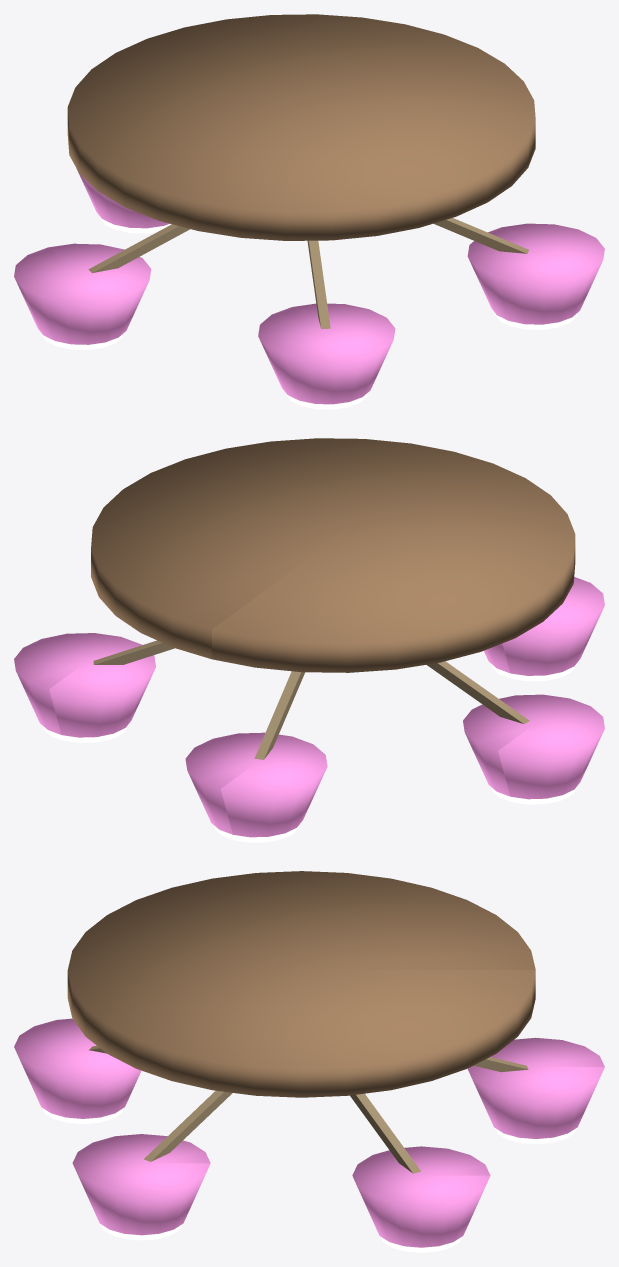
The model's file is yokocho-medallion-chandelier.glb.
The picture shows the model from 3 angles, top to bottom: view 1: azimuth 30°, elevation 25°; view 2: azimuth 150°, elevation 25°; view 3: azimuth 270°, elevation 25°; orthographic projection. The views are drawn at different scales.
Visible parts, largest first — view 1: Shops/S04/Personality/MedallionCeiling__Night_Walnut, Shops/S04/Personality/MedallionCeiling__VenueLight_S04_PlumS, Shops/S04/Personality/MedallionCeiling__Bronze, Shops/S04/Personality/MedallionCeiling__VenueLight_S04_Pearl; view 2: Shops/S04/Personality/MedallionCeiling__Night_Walnut, Shops/S04/Personality/MedallionCeiling__VenueLight_S04_PlumS, Shops/S04/Personality/MedallionCeiling__Bronze, Shops/S04/Personality/MedallionCeiling__VenueLight_S04_Pearl; view 3: Shops/S04/Personality/MedallionCeiling__Night_Walnut, Shops/S04/Personality/MedallionCeiling__VenueLight_S04_PlumS, Shops/S04/Personality/MedallionCeiling__Bronze, Shops/S04/Personality/MedallionCeiling__VenueLight_S04_Pearl.
Part boxes in pixels (<box>): Shops/S04/Personality/MedallionCeiling__Night_Walnut: <box>67,14,535,240</box>; Shops/S04/Personality/MedallionCeiling__VenueLight_S04_PlumS: <box>14,168,604,404</box>; Shops/S04/Personality/MedallionCeiling__Bronze: <box>88,218,528,328</box>; Shops/S04/Personality/MedallionCeiling__VenueLight_S04_Pearl: <box>41,217,576,409</box>; Shops/S04/Personality/MedallionCeiling__Night_Walnut: <box>91,438,575,672</box>; Shops/S04/Personality/MedallionCeiling__VenueLight_S04_PlumS: <box>14,577,604,837</box>; Shops/S04/Personality/MedallionCeiling__Bronze: <box>93,640,529,759</box>; Shops/S04/Personality/MedallionCeiling__VenueLight_S04_Pearl: <box>43,664,576,842</box>; Shops/S04/Personality/MedallionCeiling__Night_Walnut: <box>67,871,535,1097</box>; Shops/S04/Personality/MedallionCeiling__VenueLight_S04_PlumS: <box>14,1018,604,1247</box>; Shops/S04/Personality/MedallionCeiling__Bronze: <box>89,1045,528,1173</box>; Shops/S04/Personality/MedallionCeiling__VenueLight_S04_Pearl: <box>42,1108,576,1252</box>.
Bounding box in the file's own units: 1.1 × 0.369 × 1.11.
